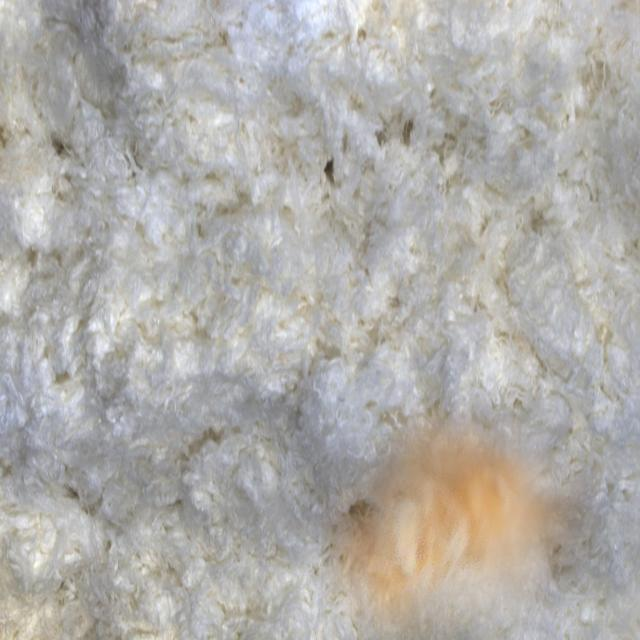dust: (321, 378, 603, 640)
